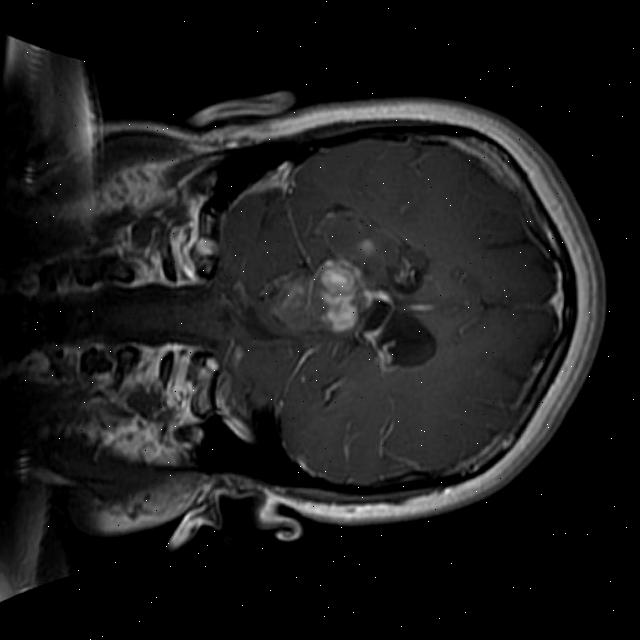Glioma: (252, 267, 314, 339), (315, 260, 361, 333), (381, 244, 432, 295)
